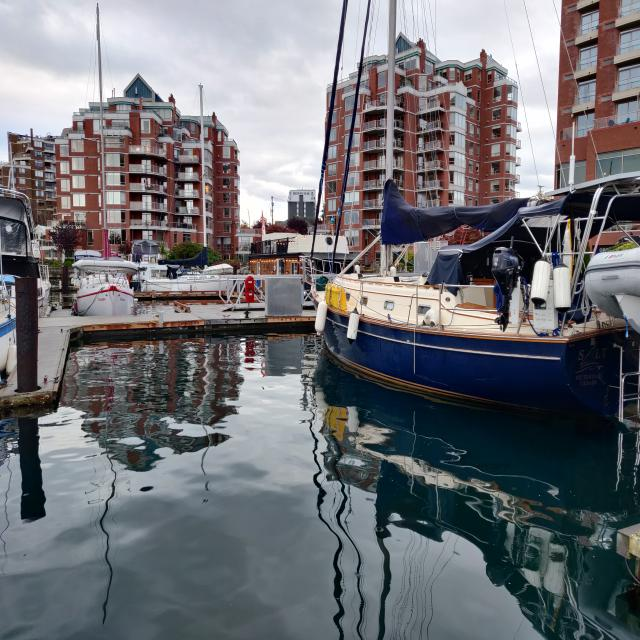boat: (294, 0, 640, 425), (72, 258, 138, 318)
